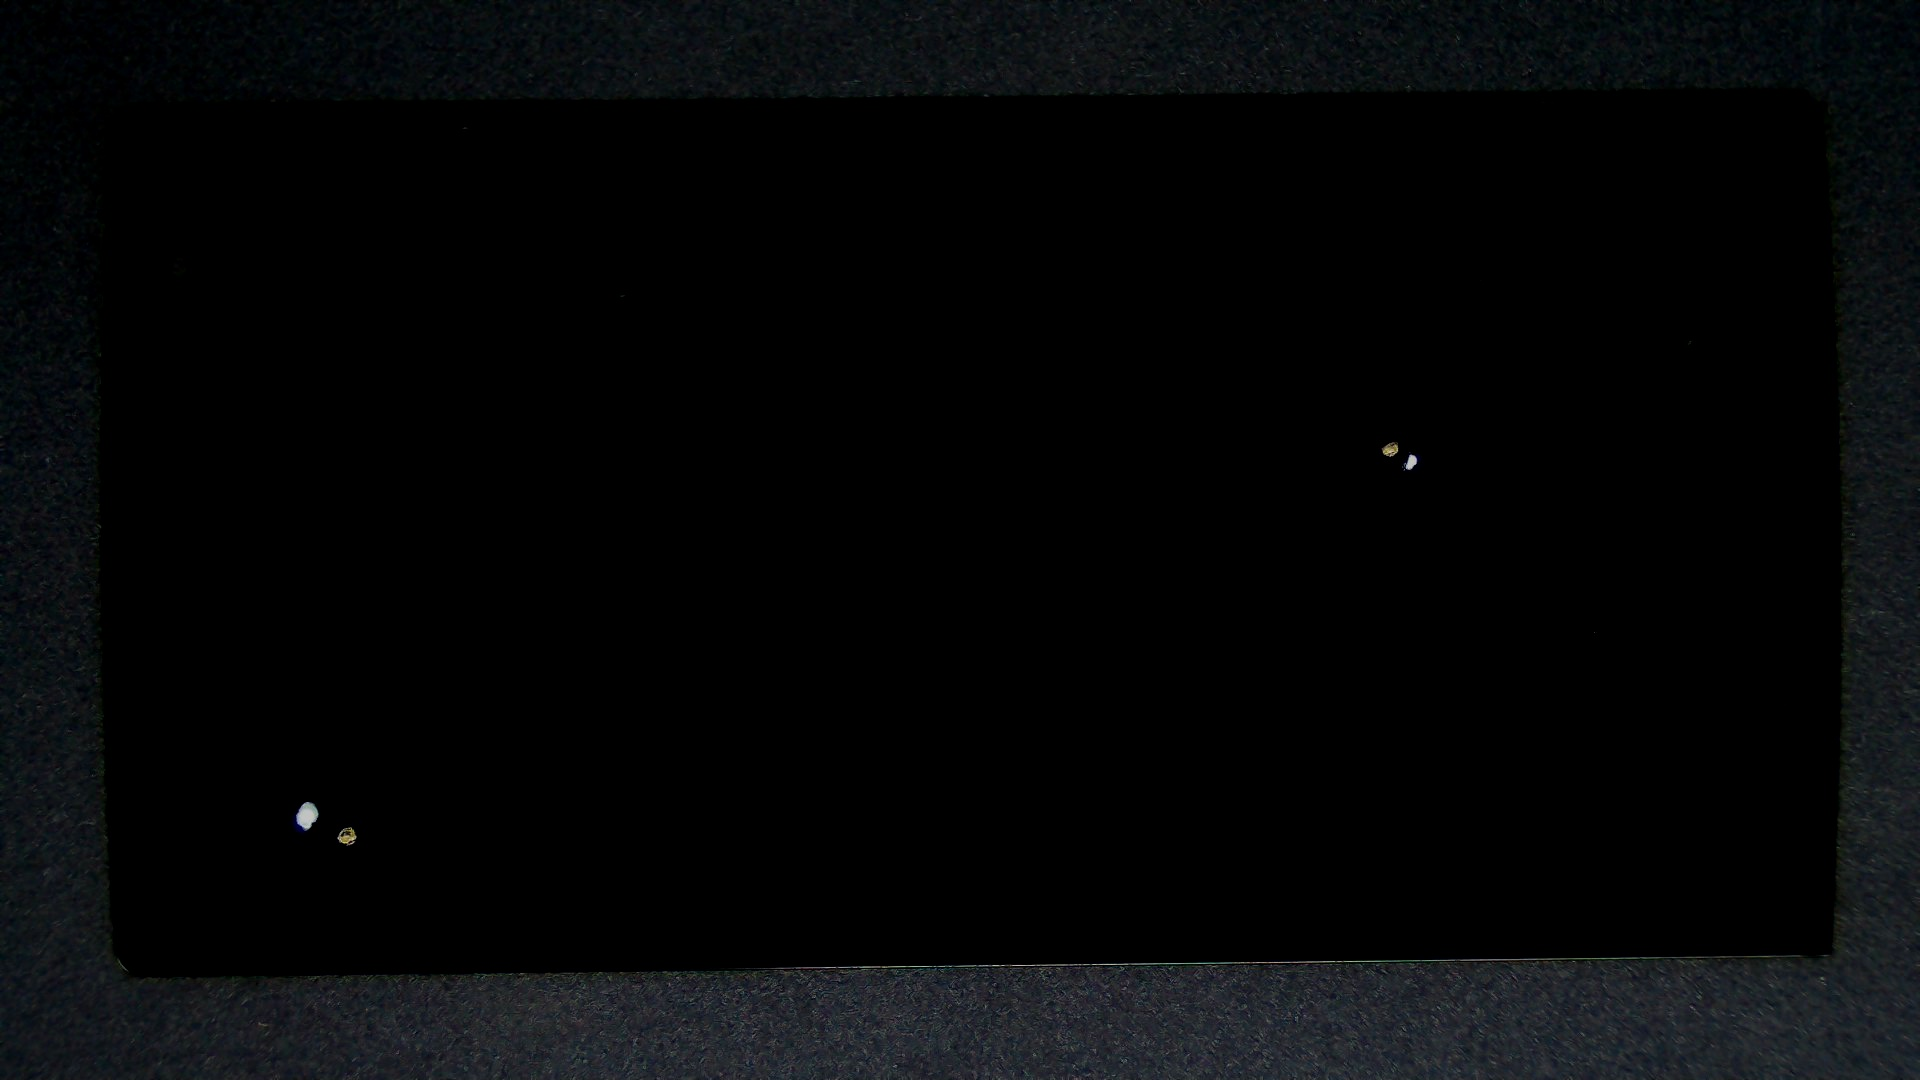oil: (705, 223, 1920, 674), (696, 219, 1920, 661), (174, 411, 521, 1080), (153, 400, 459, 1080)
